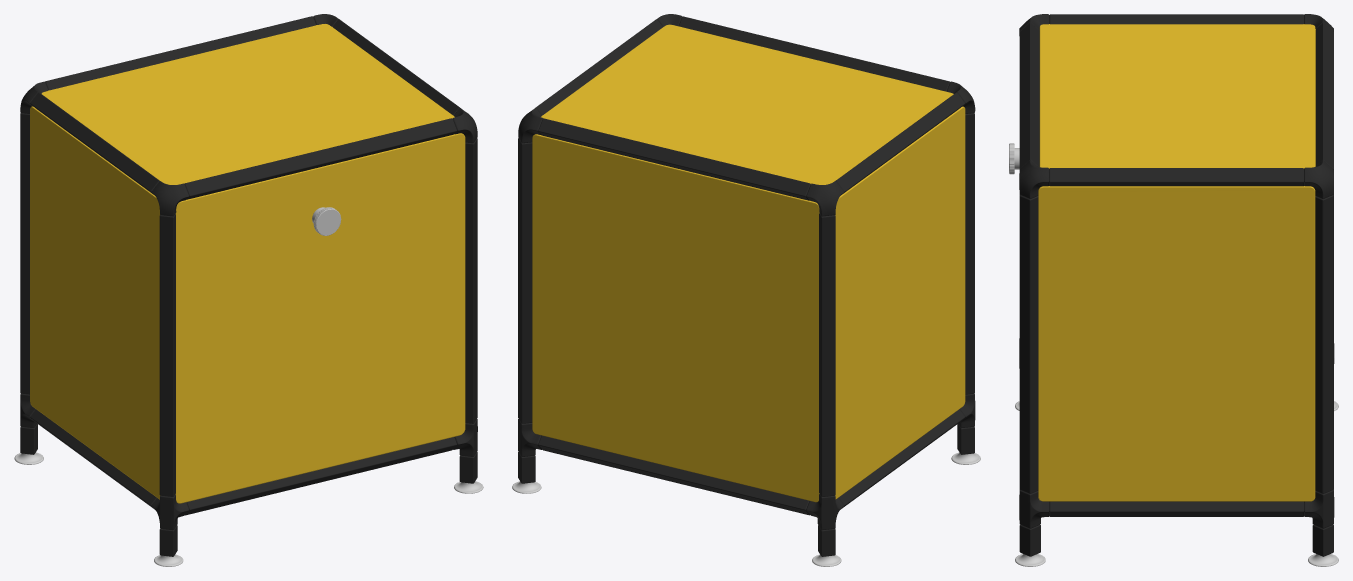
3 views of the same model, side by side, from view 1: azimuth 30°, elevation 25°; view 2: azimuth 150°, elevation 25°; view 3: azimuth 270°, elevation 25° (orthographic). The views are drawn at different scales.
Visible parts, largest first — view 1: 420x329x420; view 2: 420x329x420; view 3: 420x329x420.
Boxes of the visible parts, x1,y1,x2,y2 form: 420x329x420: [14, 14, 483, 566]; 420x329x420: [512, 14, 980, 566]; 420x329x420: [1009, 14, 1338, 566].
Size of the model in its own units: 0.5099 by 0.5593 by 0.4257.
